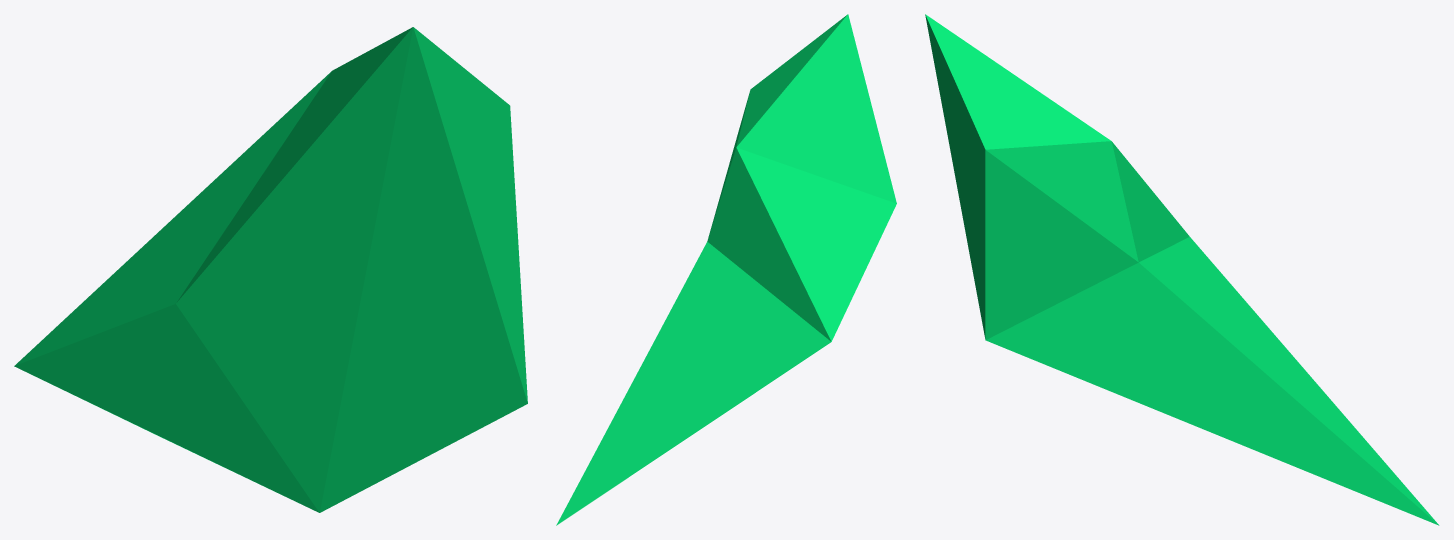
File: WIL Shard of life.fbx
3 renders of one model, left to right at view 1: azimuth 30°, elevation 25°; view 2: azimuth 150°, elevation 25°; view 3: azimuth 270°, elevation 25°, orthographic. The views are drawn at different scales.
Visible parts, largest first — view 1: Cube; view 2: Cube; view 3: Cube.
Boxes of the visible parts, bbox=[...] form: Cube: bbox=[14, 27, 527, 512]; Cube: bbox=[556, 14, 896, 525]; Cube: bbox=[925, 14, 1439, 525].
Bounding box in the file's own units: 240 × 500 × 504.
